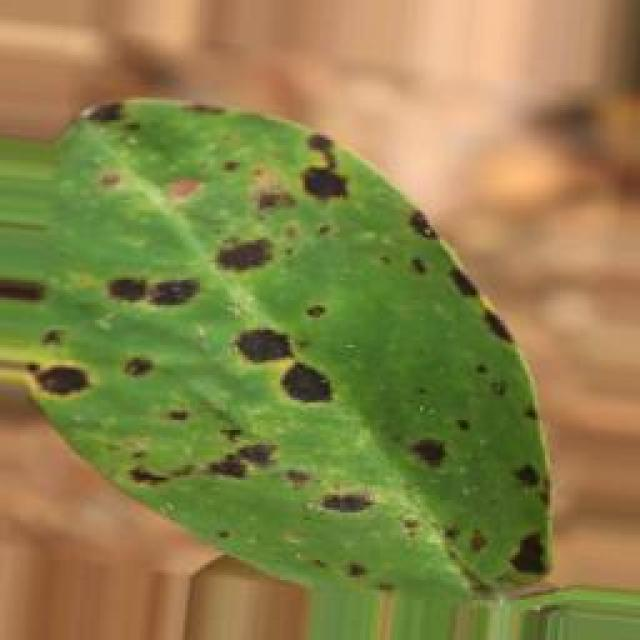Yellowish: (0, 77, 590, 602)
